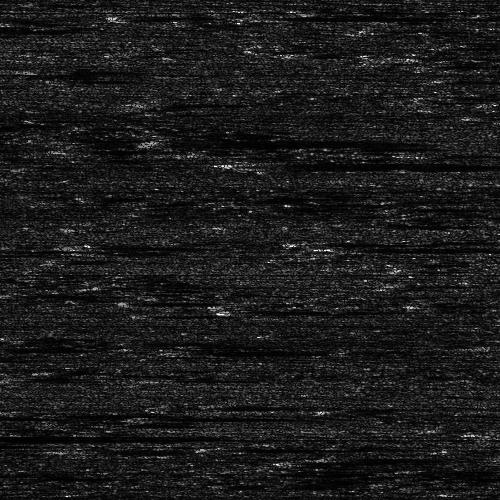rock: (200, 158, 283, 171), (156, 134, 197, 147), (291, 454, 344, 463), (210, 306, 273, 313), (275, 238, 338, 245), (42, 242, 95, 249), (216, 14, 289, 19), (32, 446, 105, 451), (297, 245, 350, 250), (210, 446, 263, 449)
shadow: (177, 134, 440, 147), (242, 158, 473, 171), (318, 454, 465, 463), (0, 433, 163, 440), (307, 238, 463, 245), (242, 306, 386, 313), (253, 14, 449, 19), (69, 242, 207, 249), (324, 245, 480, 250), (69, 446, 198, 451), (0, 22, 46, 35), (237, 446, 377, 449), (0, 272, 42, 281), (0, 442, 41, 447)
